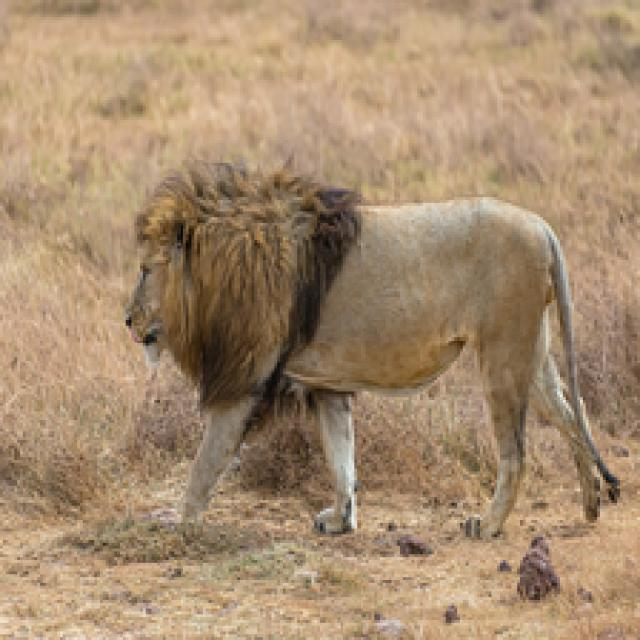lion: (119, 146, 624, 557)
